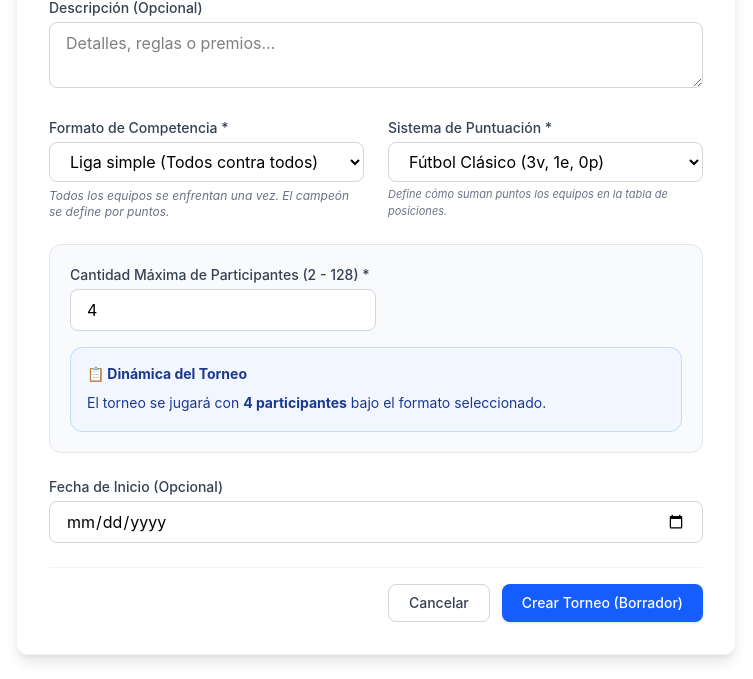
it: CrearTorneoView (Formulario) › debe mostrar error de validación si el nombre está vacío al intentar enviar
(page scrolled)
Click the button "Crear Torneo (Borrador)": (602, 603) [502, 584, 703, 622]
(page scrolled)
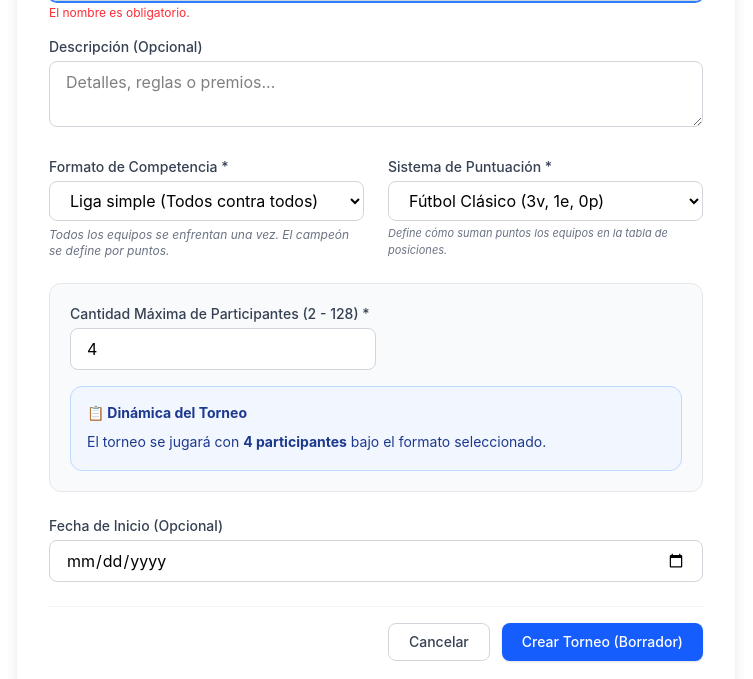
Expected: the text "El nombre es obligatorio." is shown, [49, 5, 190, 20]
